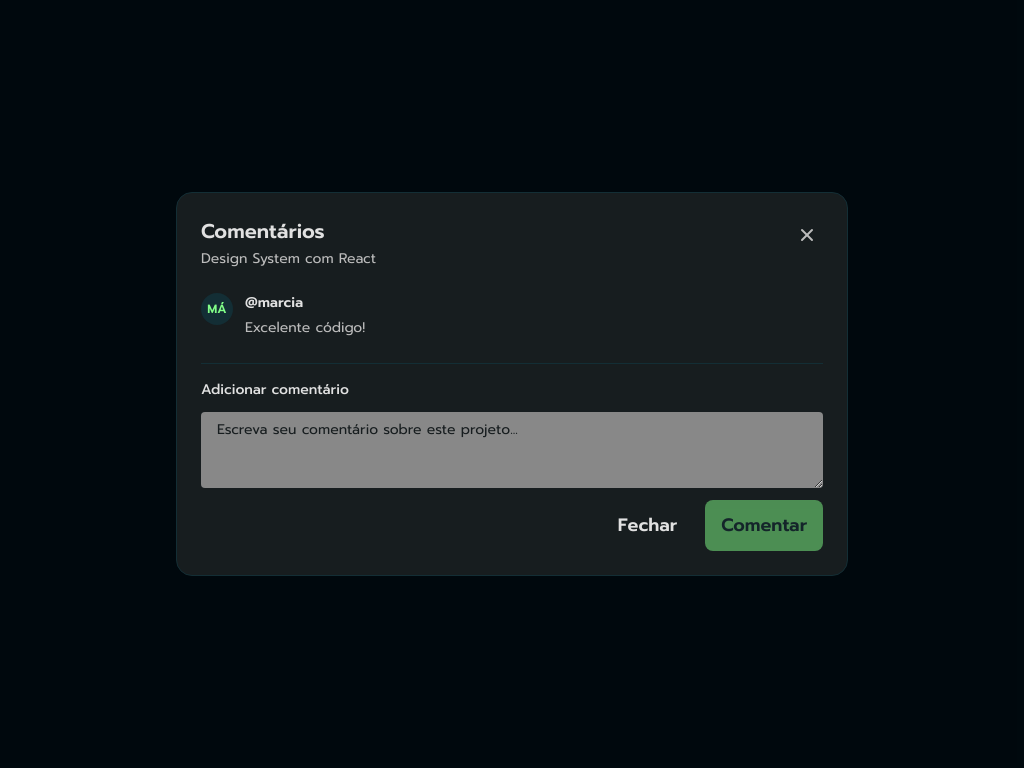
Test: PostCommentsModal › loads comments and submits a new comment
Expected: the text "Excelente código!" is shown, [245,317,365,339]
Type "Parabéns pelo projeto!" into the text box labelled "Adicionar comentário" at point(512, 450), box [201,412,823,488]
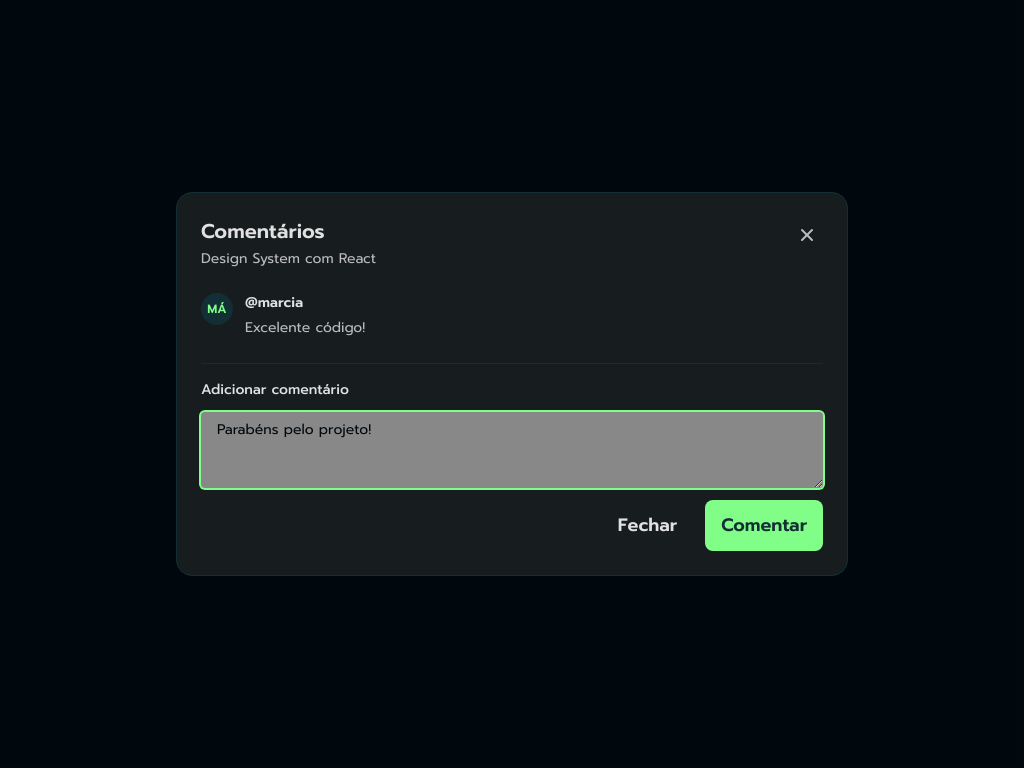
Click the button "Comentar" at point(764, 526), box [705,500,823,551]
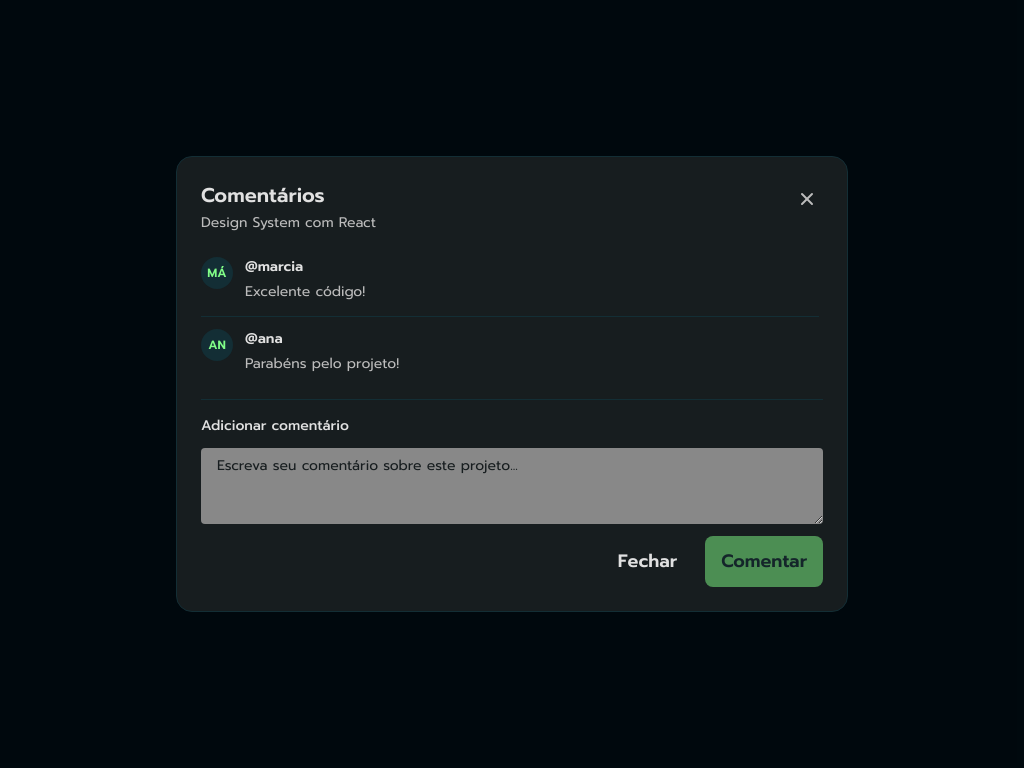
Now the text "Parabéns pelo projeto!" is shown, box [245,352,399,375]
